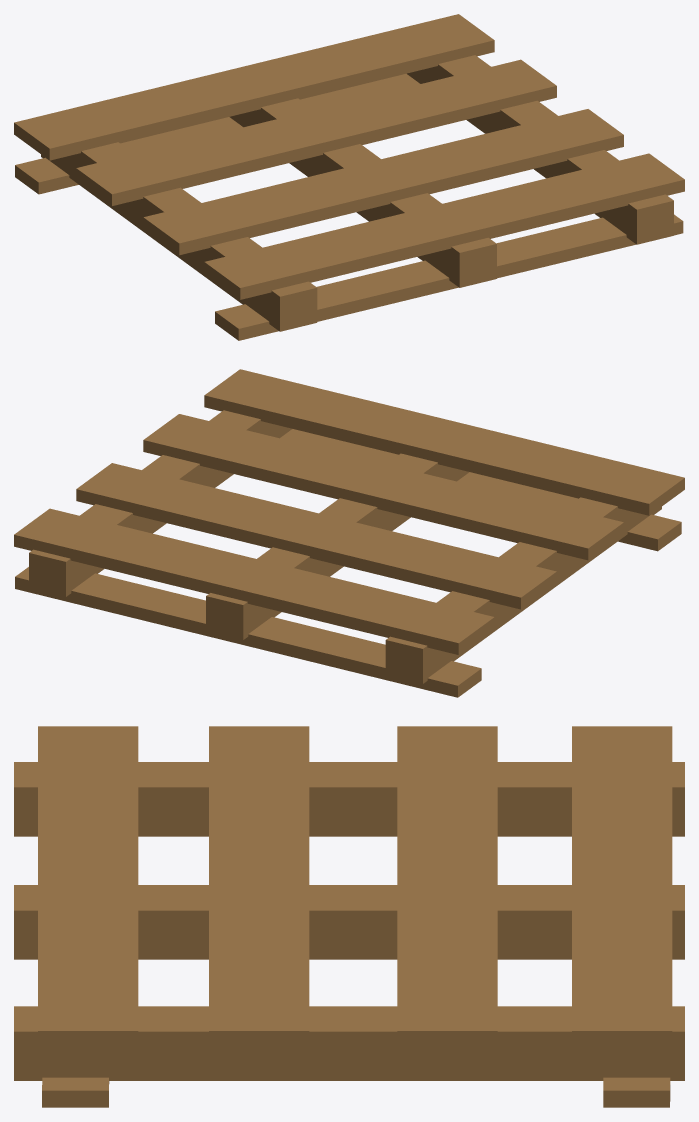
File: Wooden Crate_1.fbx
3 views of the same model, one above another, from view 1: azimuth 30°, elevation 25°; view 2: azimuth 150°, elevation 25°; view 3: azimuth 270°, elevation 25° (orthographic). The views are drawn at different scales.
Visible parts, largest first — view 1: Wooden Crate_1; view 2: Wooden Crate_1; view 3: Wooden Crate_1.
Boxes of the visible parts, bbox=[...] form: Wooden Crate_1: bbox=[14, 14, 684, 340]; Wooden Crate_1: bbox=[14, 369, 684, 697]; Wooden Crate_1: bbox=[14, 726, 684, 1107].
Bounding box in the file's own units: 230 × 27.04 × 214.
